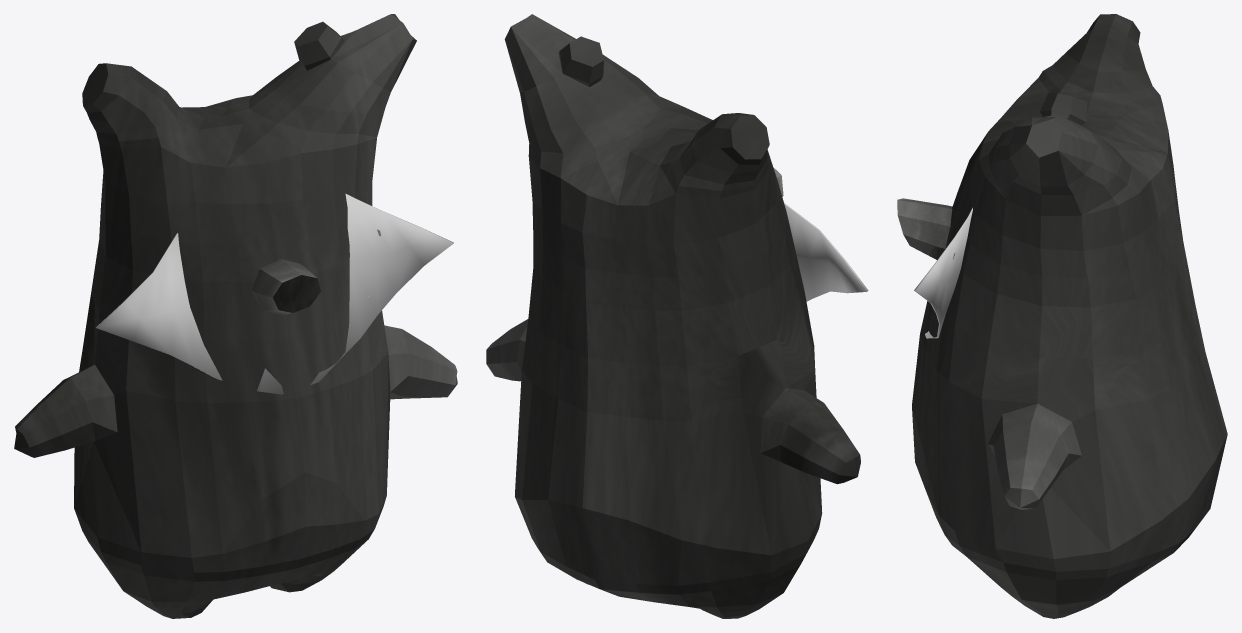
File: frame_0101.obj
3 views of the same model, side by side, from view 1: azimuth 30°, elevation 25°; view 2: azimuth 150°, elevation 25°; view 3: azimuth 270°, elevation 25° (orthographic). The views are drawn at different scales.
Parts seen in each view (by area): view 1: korok, leaf, nose; view 2: korok, leaf; view 3: korok, nose, leaf.
Part boxes in pixels (bbox=[...]): korok: bbox=[14, 14, 457, 618]; leaf: bbox=[96, 193, 453, 394]; nose: bbox=[251, 258, 320, 315]; korok: bbox=[486, 14, 860, 618]; leaf: bbox=[784, 203, 868, 301]; korok: bbox=[912, 14, 1227, 618]; nose: bbox=[897, 198, 952, 259]; leaf: bbox=[914, 207, 972, 338].
Bounding box in the file's own units: 1.7 × 2.2 × 1.22.
